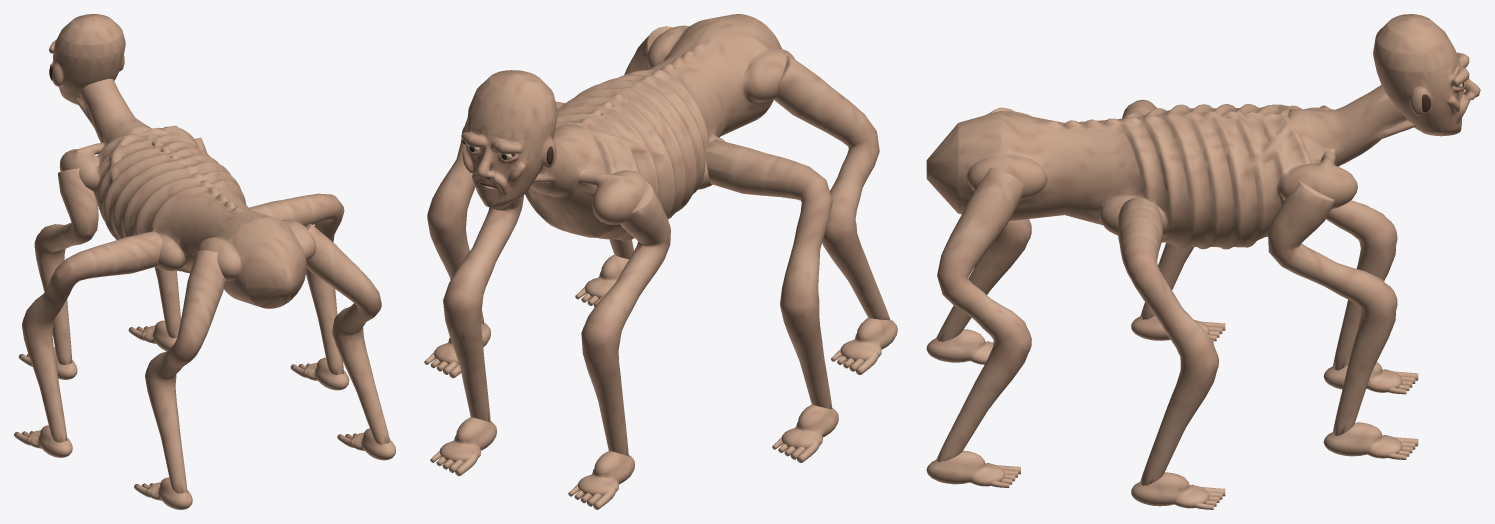
3 views of the same model, side by side, from view 1: azimuth 30°, elevation 25°; view 2: azimuth 150°, elevation 25°; view 3: azimuth 270°, elevation 25° (orthographic). The views are drawn at different scales.
Bounding box in the file's own units: 1.51 × 1.55 × 1.93.
1 material, 1 textured.
